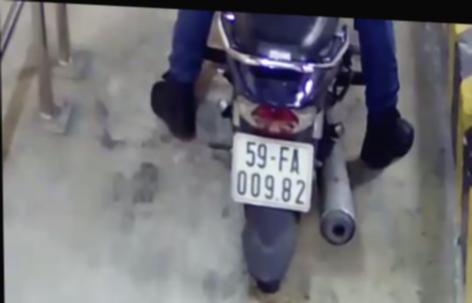License_Plate: (226, 123, 322, 218)
